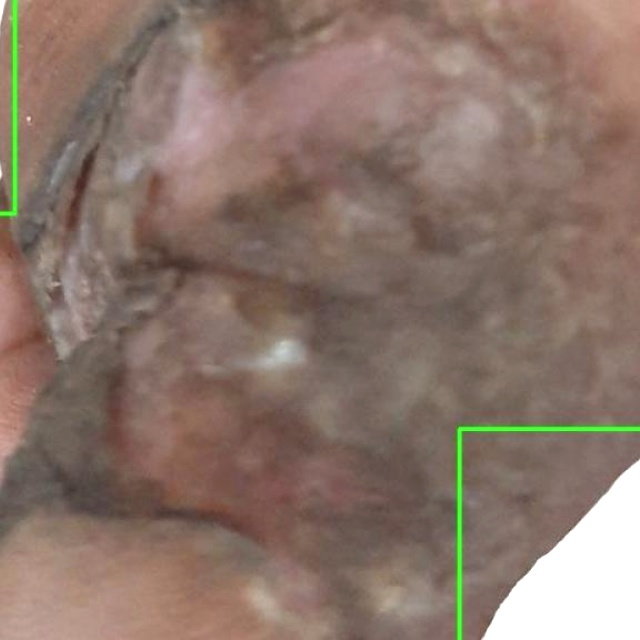Contact Dermatitis: (459, 428, 639, 639)
